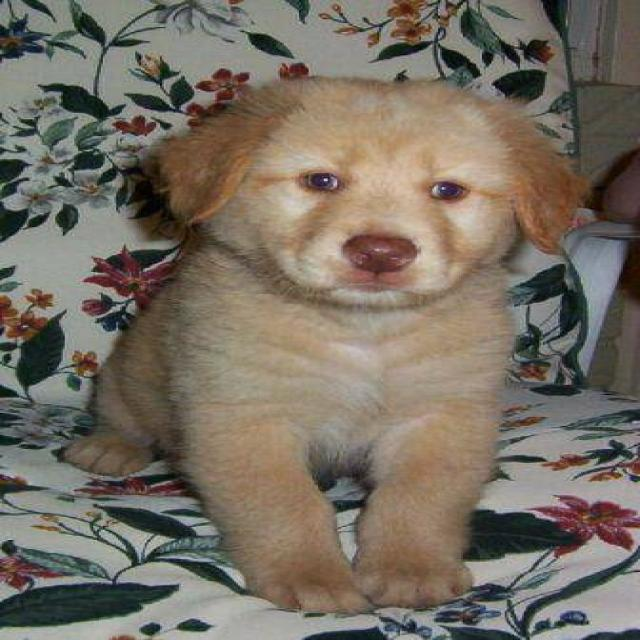Dog: (179, 63, 576, 317)
